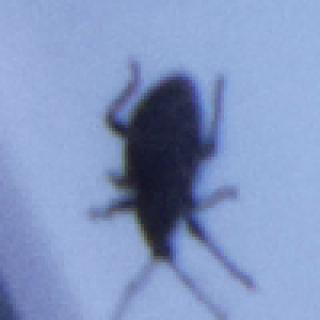bvw: (88, 57, 258, 320)
